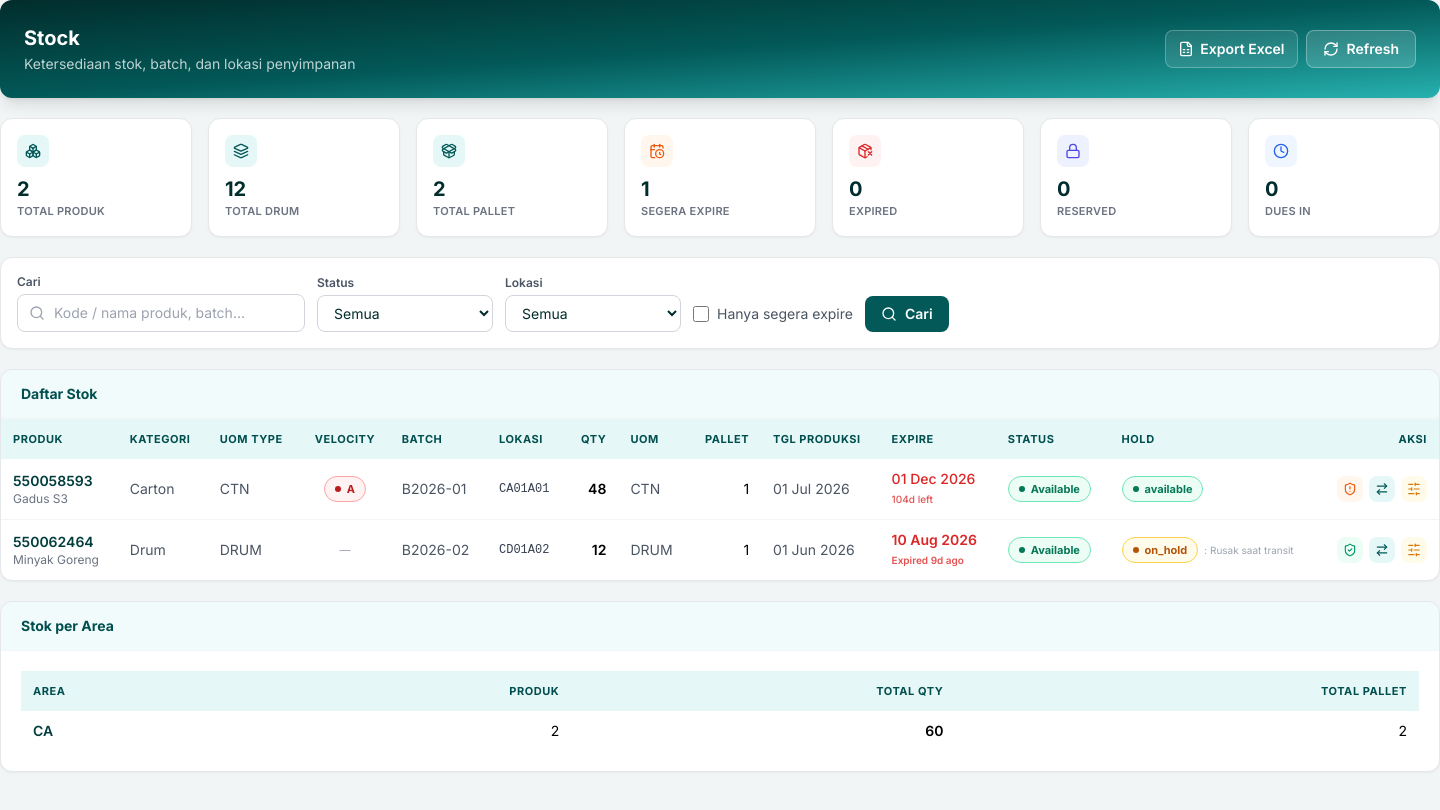
Test: StockPage › disables the hold submit until a reason is provided
Expected: the text "550058593" is shown, [13,470,106,490]
Step 1. Click the button titled "Hold / Quarantine" → x=1350, y=488, box [1337,476,1363,502]
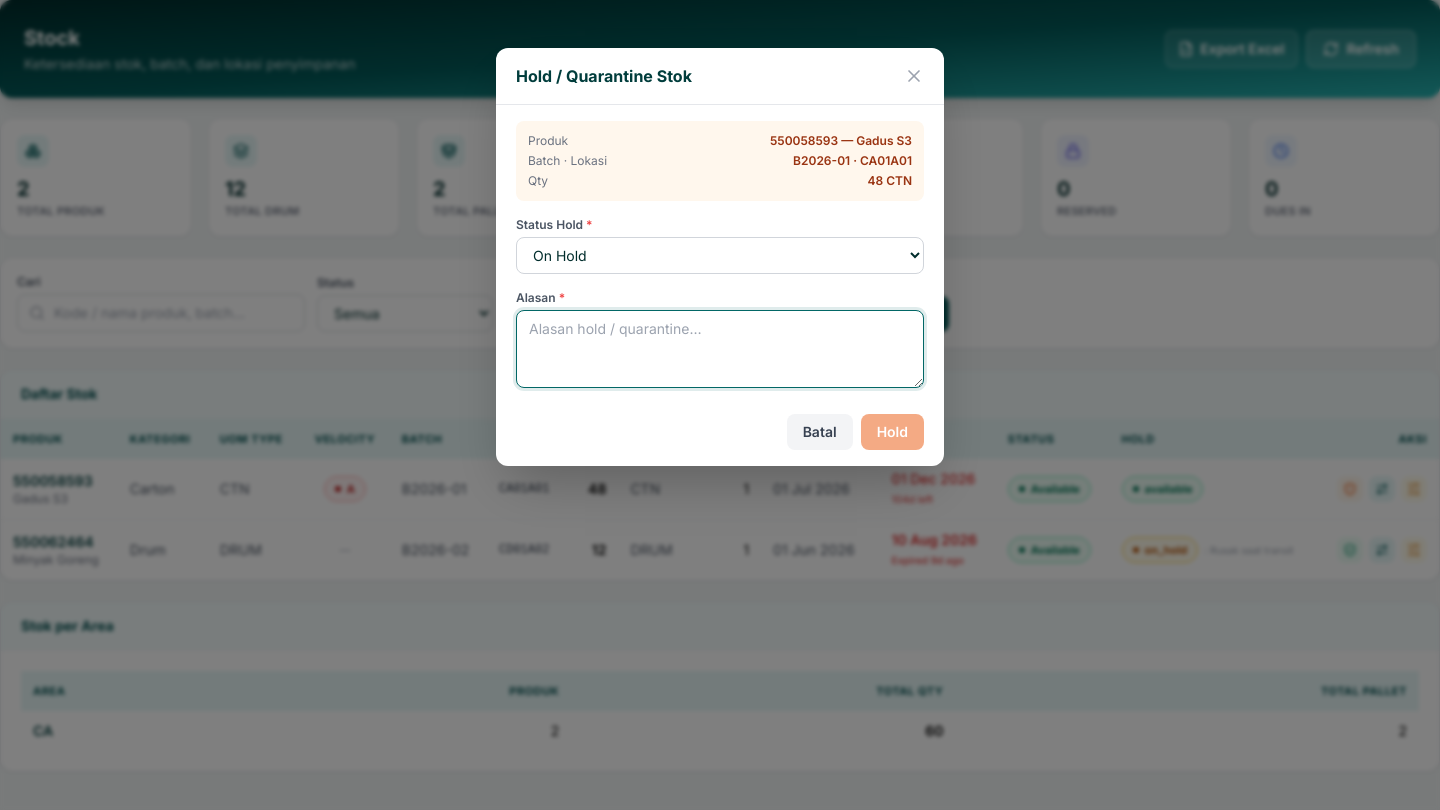
Now the button "Hold" is disabled, box [861,414,924,450]
Step 2. Type "QC check" into the text box with placeholder "Alasan hold / quarantine…" → x=720, y=349, box [516,310,924,388]
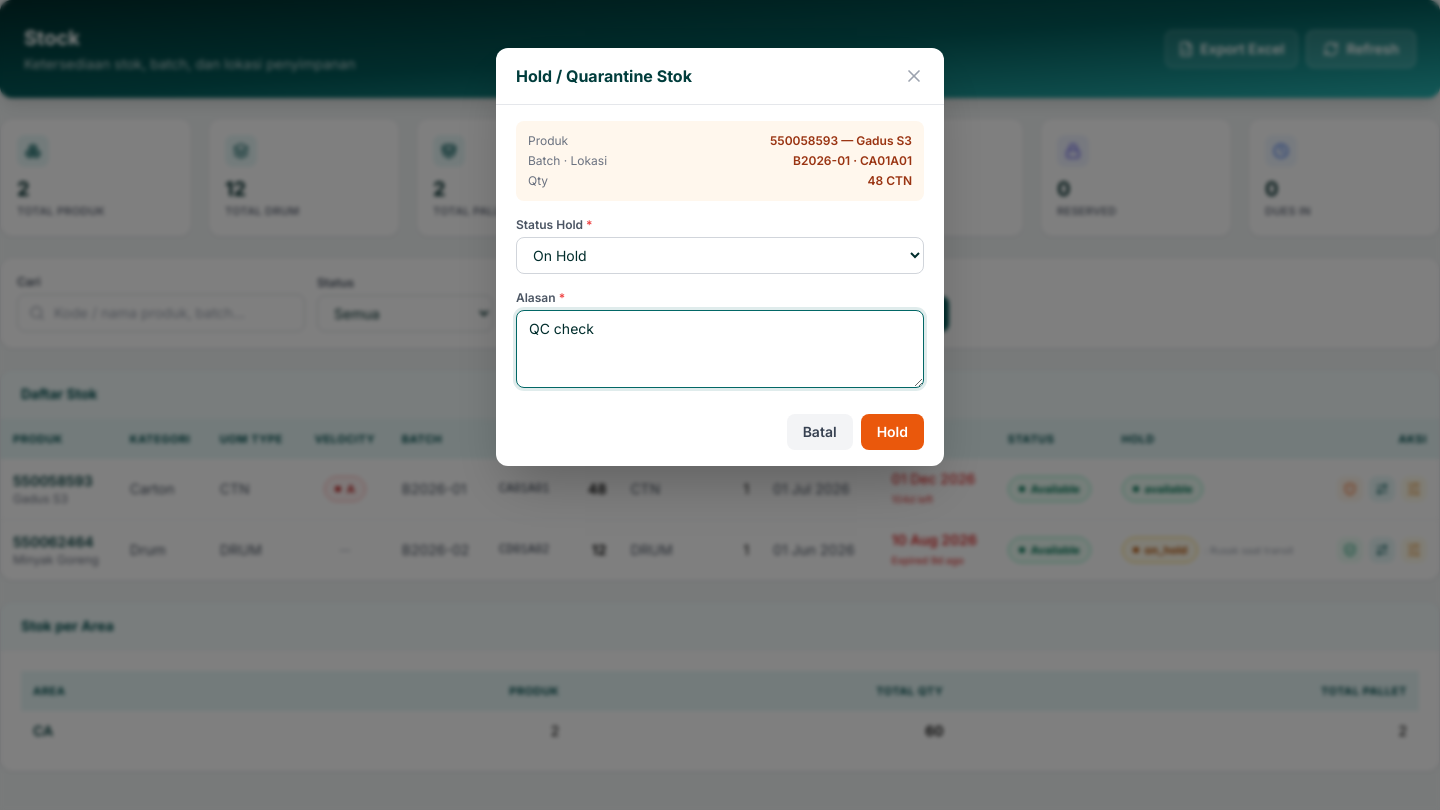
Now the button "Hold" is enabled, box [861,414,924,450]
